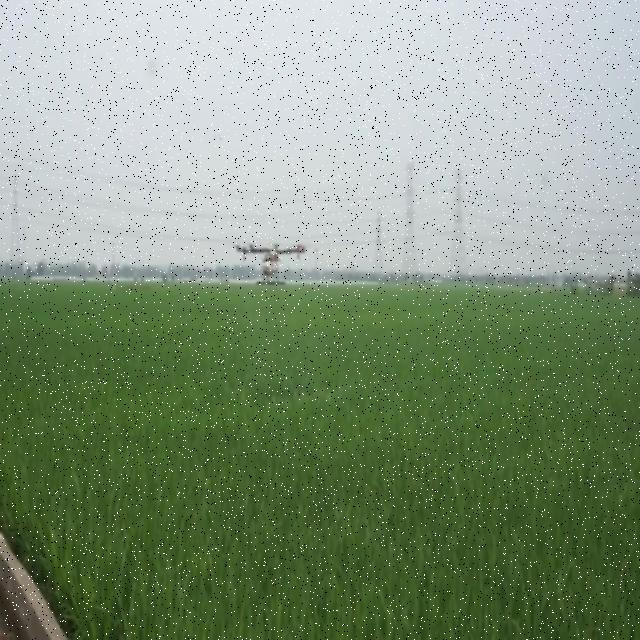UAV: (234, 240, 304, 288)
